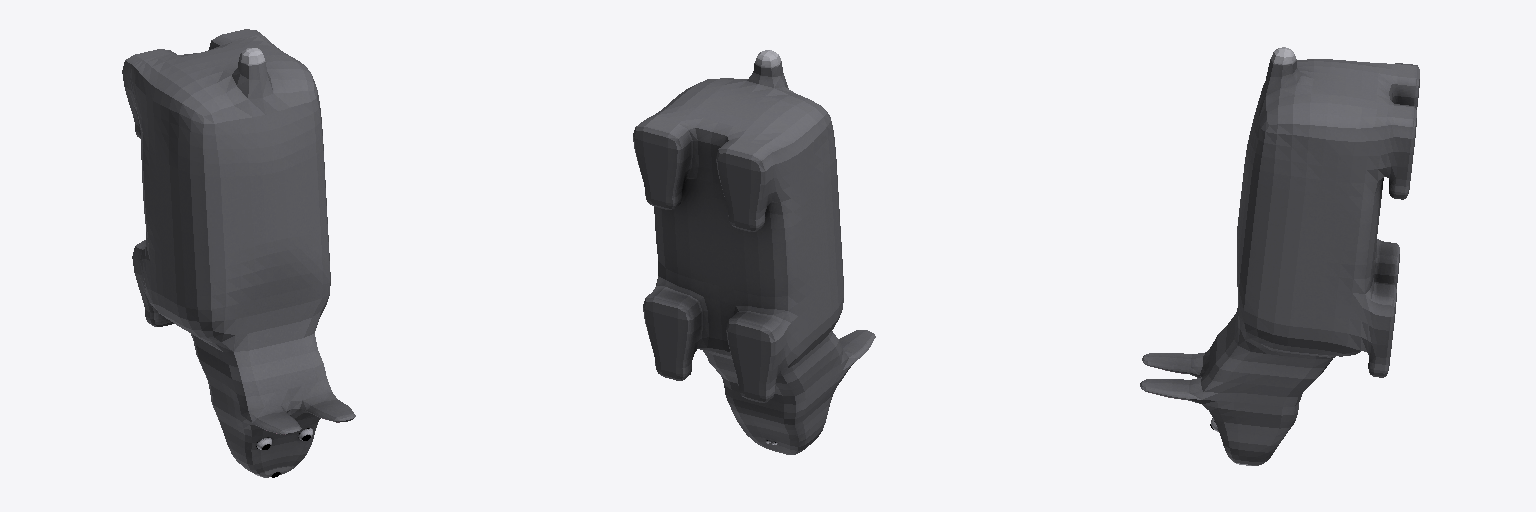
The picture shows the model from 3 angles: view 1: azimuth 30°, elevation 25°; view 2: azimuth 150°, elevation 25°; view 3: azimuth 270°, elevation 25°; orthographic projection.
Parts seen in each view (by area): view 1: Box001; view 2: Box001; view 3: Box001.
Boxes of the visible parts, box(x1,y1,x2,y2) form: Box001: box(122, 29, 355, 477); Box001: box(633, 50, 875, 454); Box001: box(1140, 47, 1419, 465).
Size of the model in its own units: 28.38 by 78.36 by 48.27.
Materials: 1 (1 with a texture image).